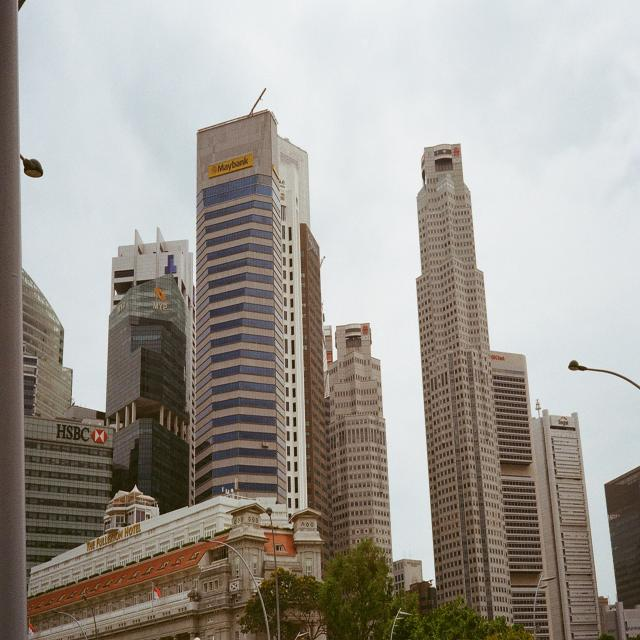Street Light: (198, 536, 270, 640), (567, 360, 640, 444), (264, 507, 281, 640)
